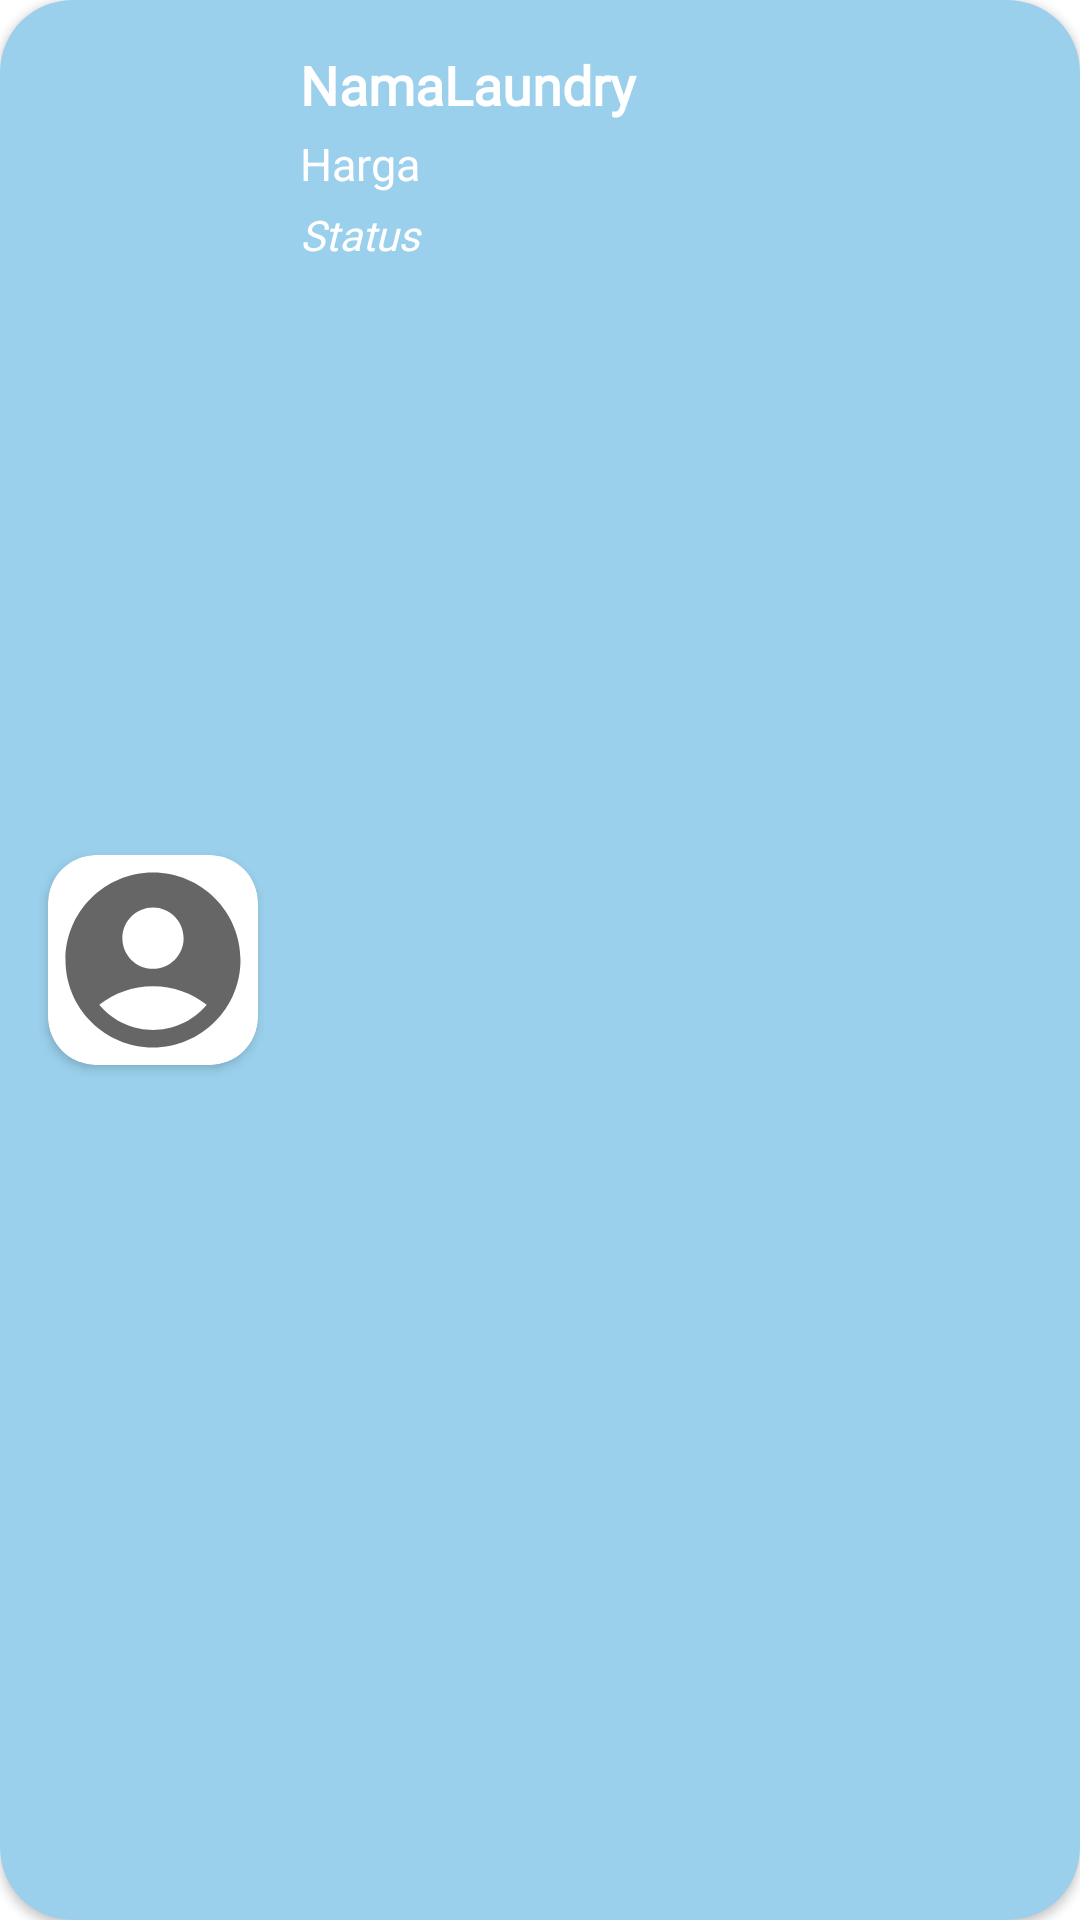

Named icons in this screenshot (1080×1920) and their bounding boxes, (x1, y1, x2, y2):
profile: (48, 855, 258, 1065)
